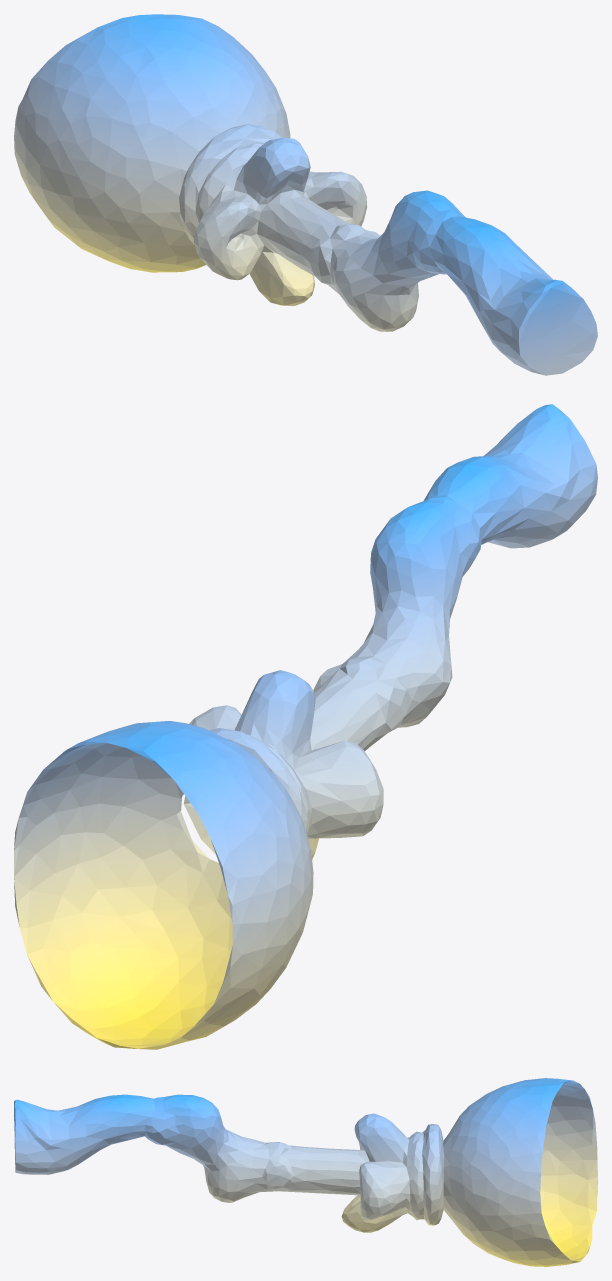
Rendered from 50_cyb_laser_gradient_fish_scales_2976_2026_10_03_aaa4ba.glb.
The picture shows the model from 3 angles, top to bottom: view 1: azimuth 30°, elevation 25°; view 2: azimuth 150°, elevation 25°; view 3: azimuth 270°, elevation 25°; orthographic projection. The views are drawn at different scales.
Parts seen in each view (by area): view 1: geometry_0; view 2: geometry_0; view 3: geometry_0.
Part boxes in pixels (bbox=[...]): geometry_0: bbox=[14, 14, 597, 375]; geometry_0: bbox=[14, 404, 597, 1049]; geometry_0: bbox=[14, 1078, 597, 1266].
Size of the model in its own units: 0.3254 by 0.3271 by 1.
